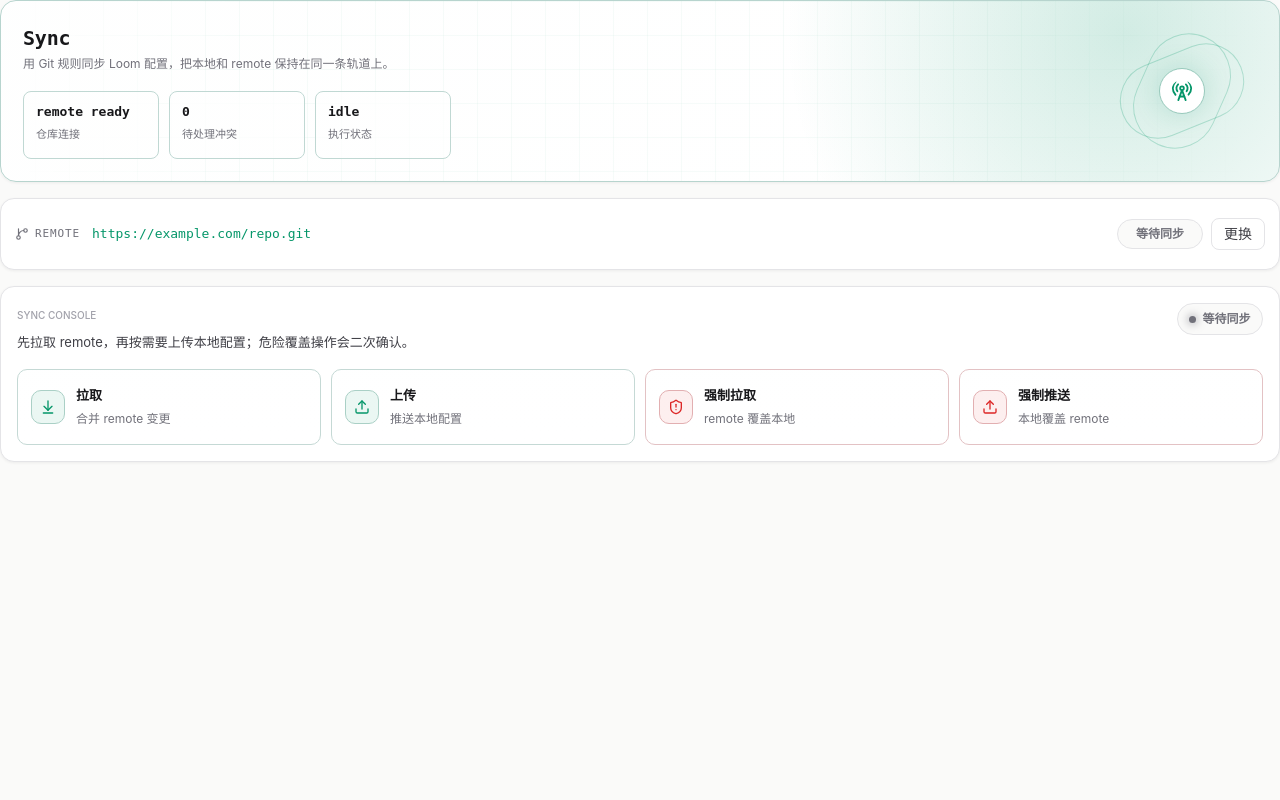
Scenario: Sync force operations › requires confirmation before force-pulling
The image size is (1280, 800).
Expected: the link "https://example.com/repo.git" is shown, [92,226,311,241]
Click the button "强制拉取 remote 覆盖本地": (676, 407) [645,369,949,445]
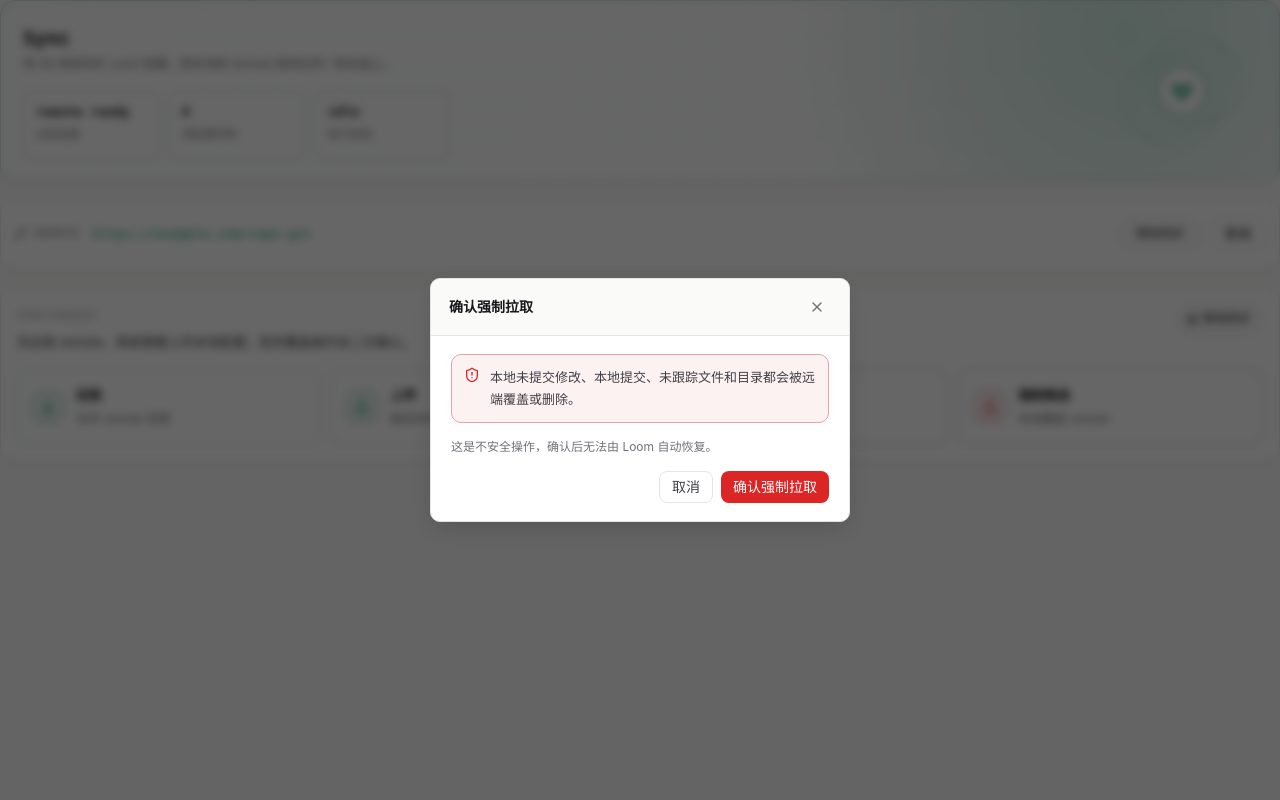
Now the dialog "确认强制拉取" is shown, box [430,278,850,522]
Now the text "本地未提交修改、本地提交、未跟踪文件和目录都会被远端覆盖或删除。" is shown, box [490,367,816,410]
Click the button "取消": (686, 487) [659,471,713,503]
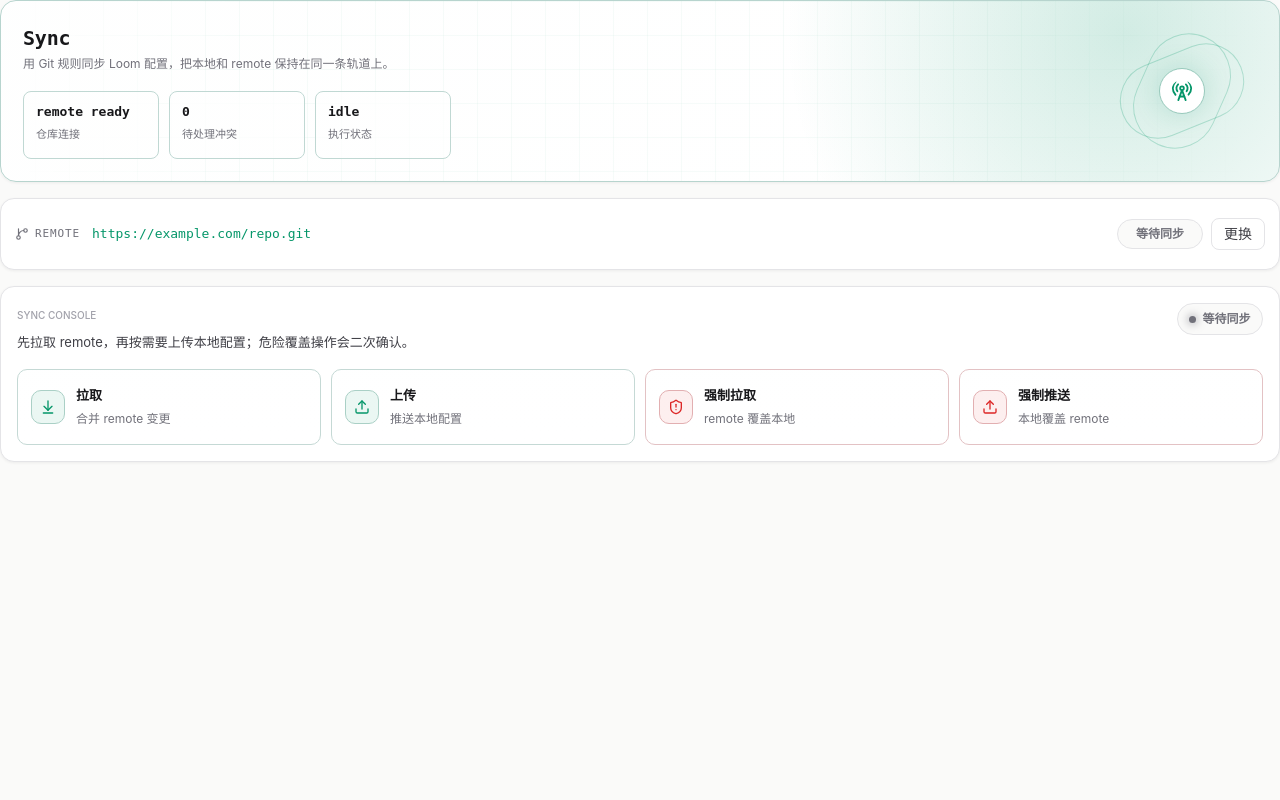
Now the text "确认强制拉取" is gone
Click the button "强制拉取 remote 覆盖本地": (676, 407) [645,369,949,445]
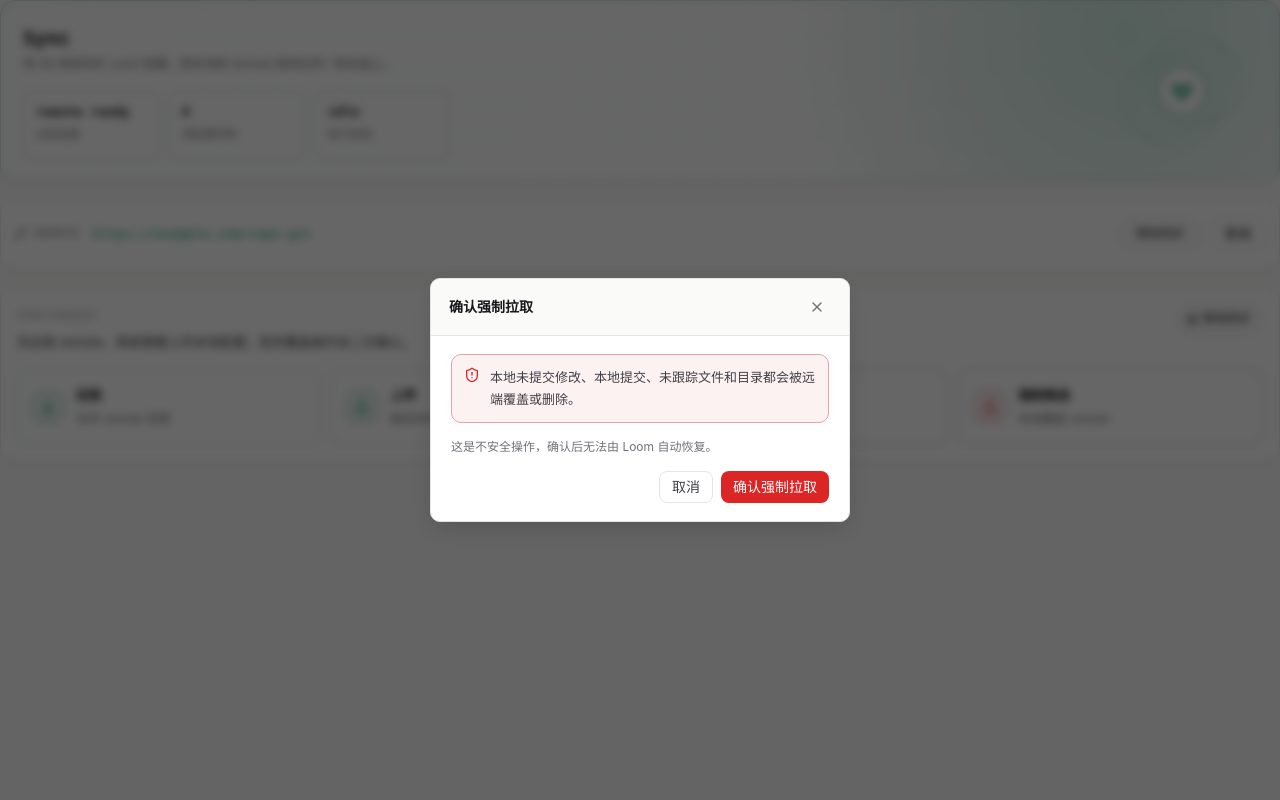
Click the button "确认强制拉取": (775, 487) [721,471,829,503]
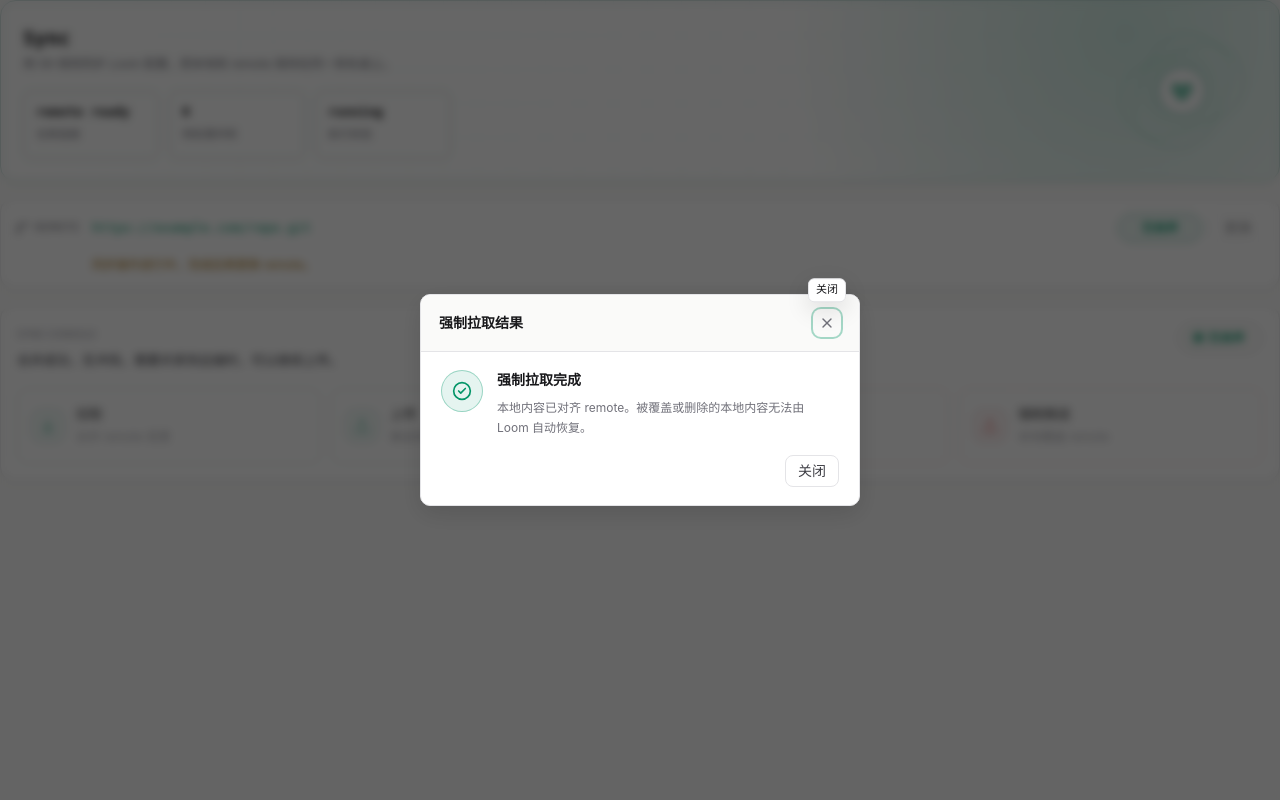
Now the text "强制拉取完成" is shown, box [497,372,581,388]
